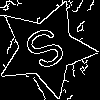S: (21, 24, 75, 81)
